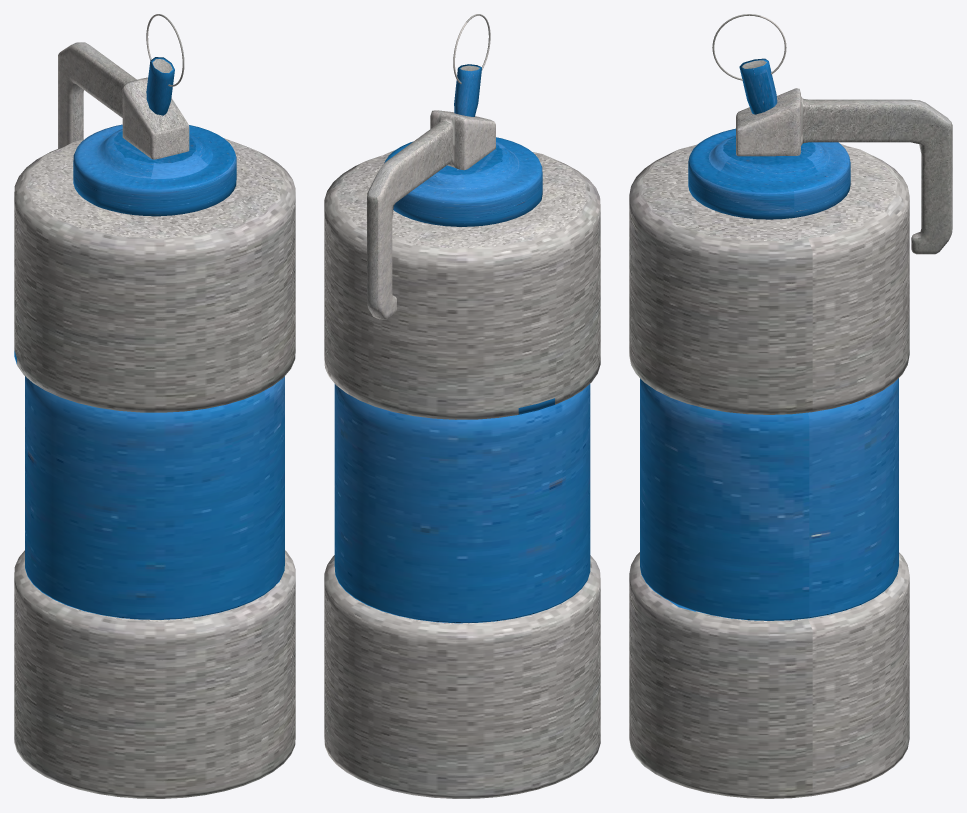
The model's file is Grenade.fbx.
3 renders of one model, left to right at view 1: azimuth 30°, elevation 25°; view 2: azimuth 150°, elevation 25°; view 3: azimuth 270°, elevation 25°, orthographic.
Parts seen in each view (by area): view 1: BombPipe; view 2: BombPipe; view 3: BombPipe.
Boxes of the visible parts, box(x1,y1,x2,y2) form: BombPipe: box(14, 14, 295, 798); BombPipe: box(324, 14, 600, 798); BombPipe: box(629, 14, 952, 798).
Bounding box in the file's own units: 0.4753 × 1.39 × 0.5486.
4 materials, 3 textured.
